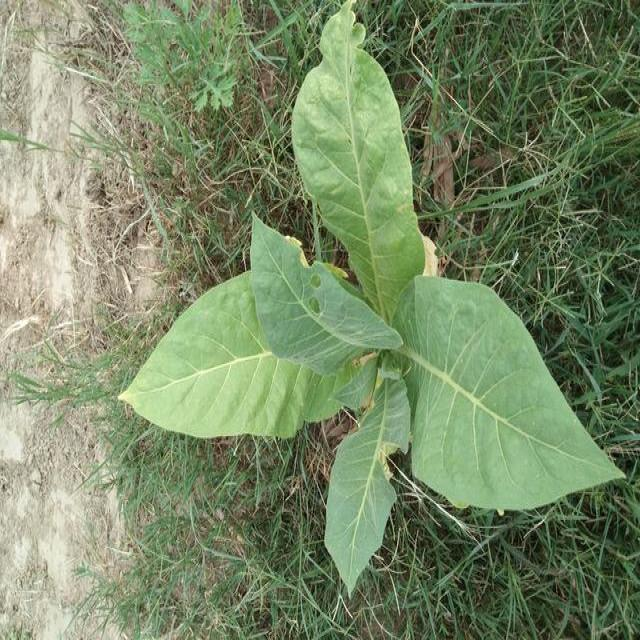crop: (112, 11, 629, 591)
